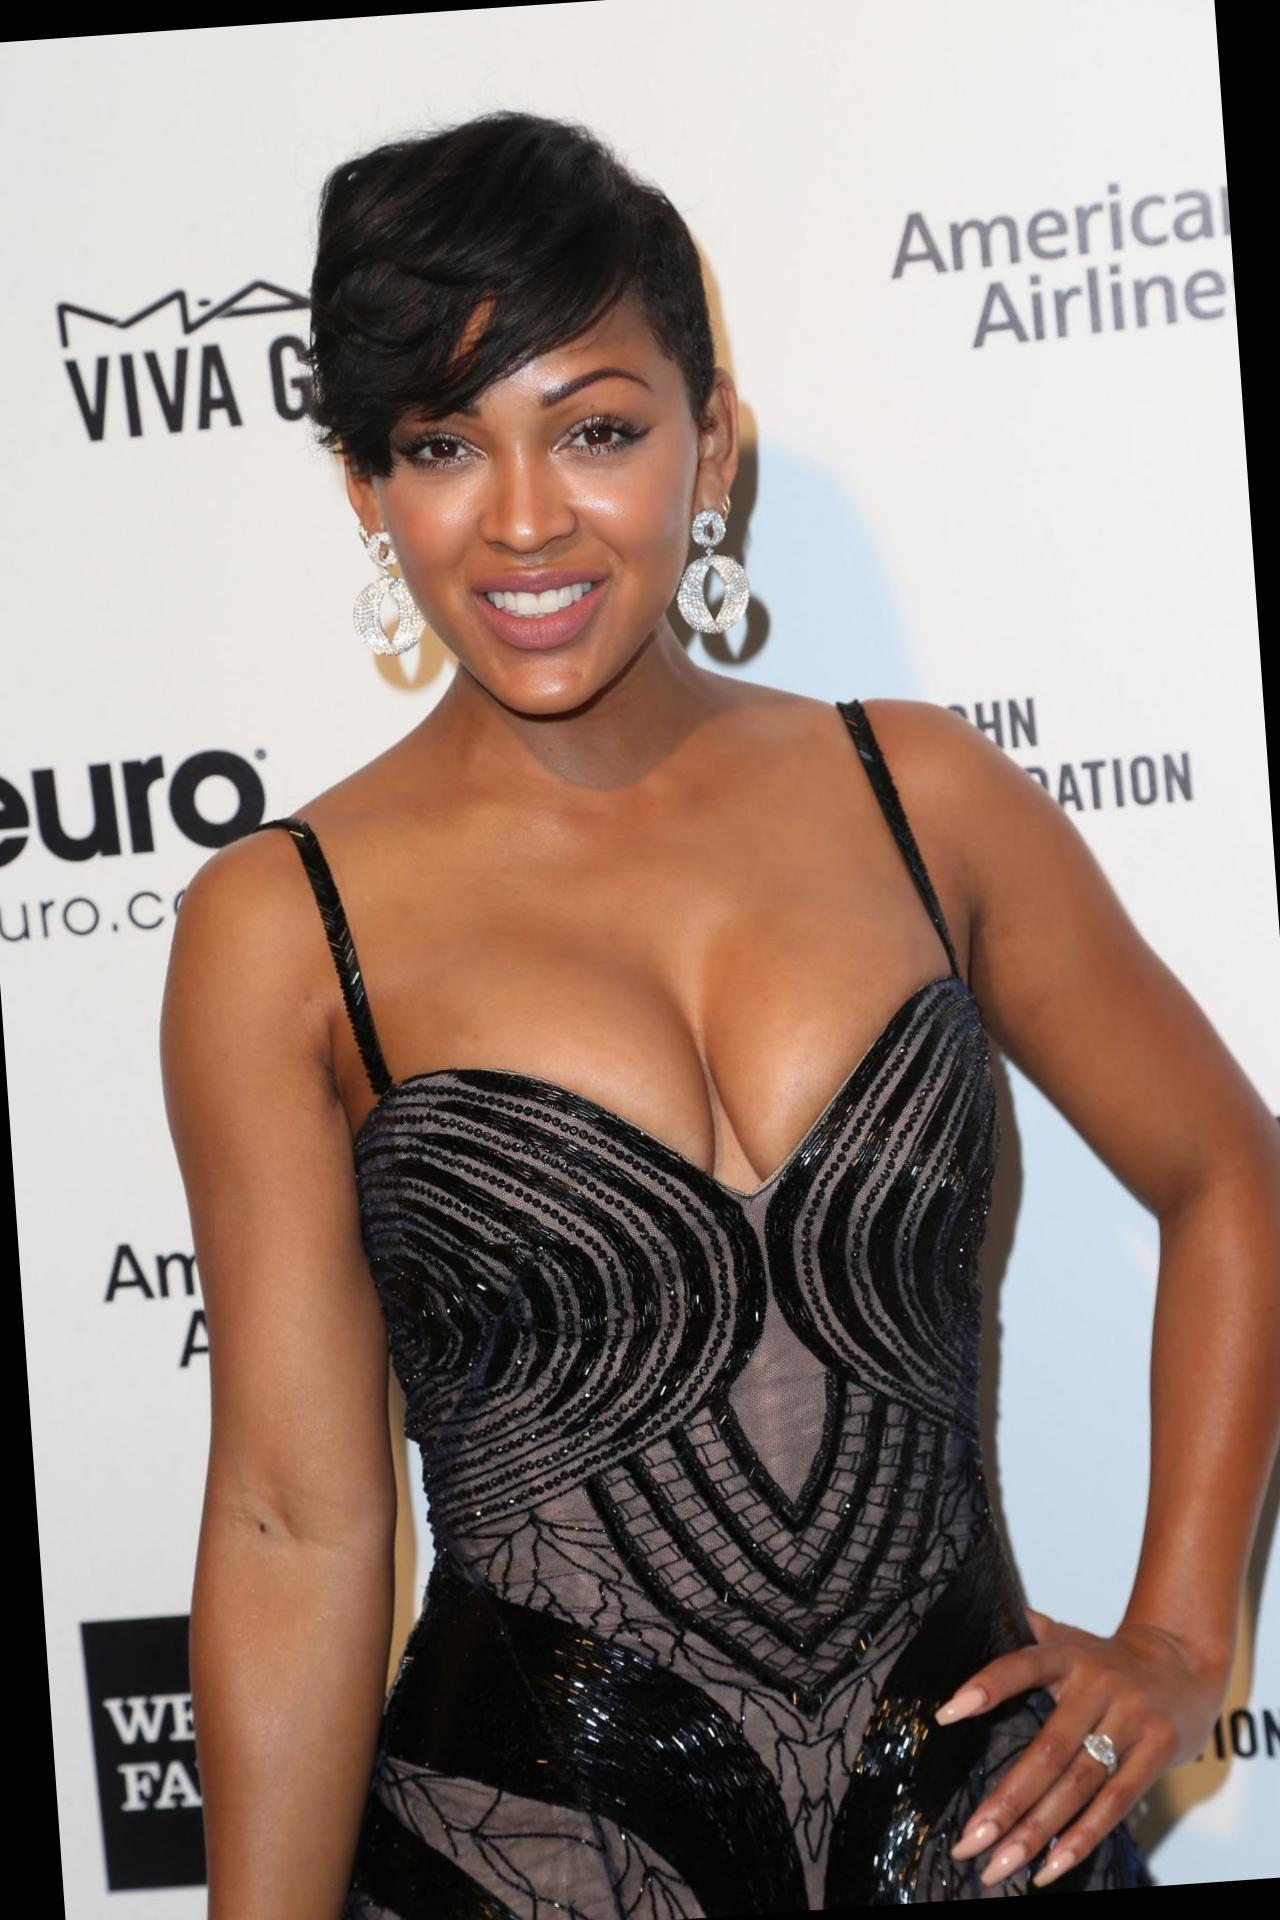Sober: (377, 336, 703, 689)
